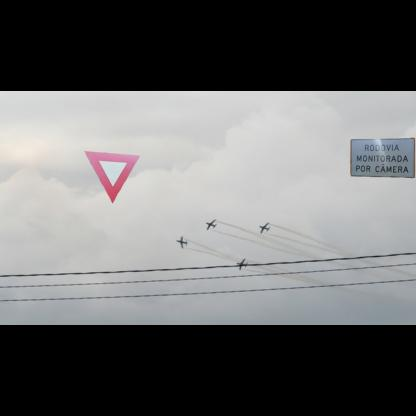I-E: (350, 138, 415, 178)
R-2: (84, 151, 140, 203)
